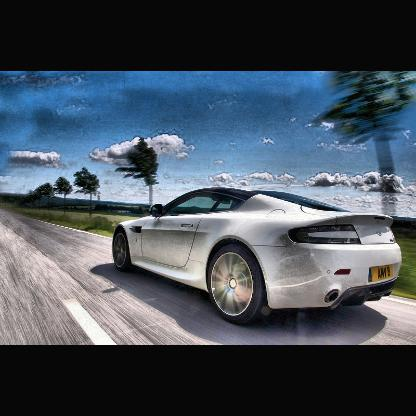Aston Martin V8 Vantage Coupe 2012: (109, 177, 413, 330)
